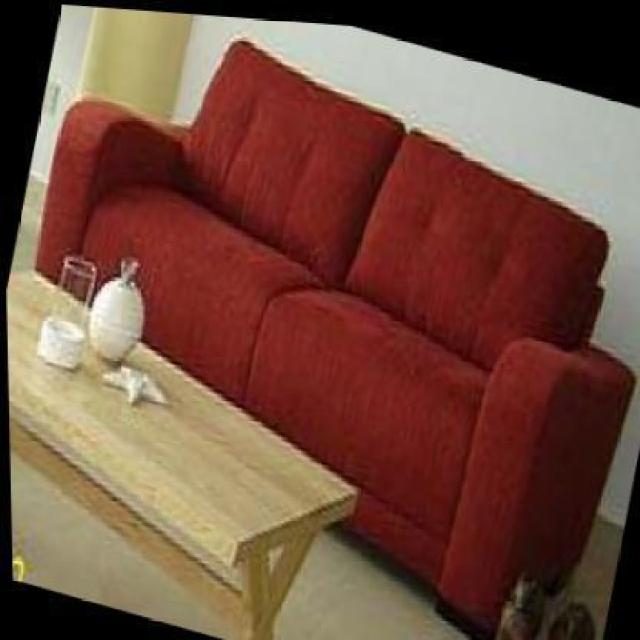tables: (4, 270, 358, 638)
